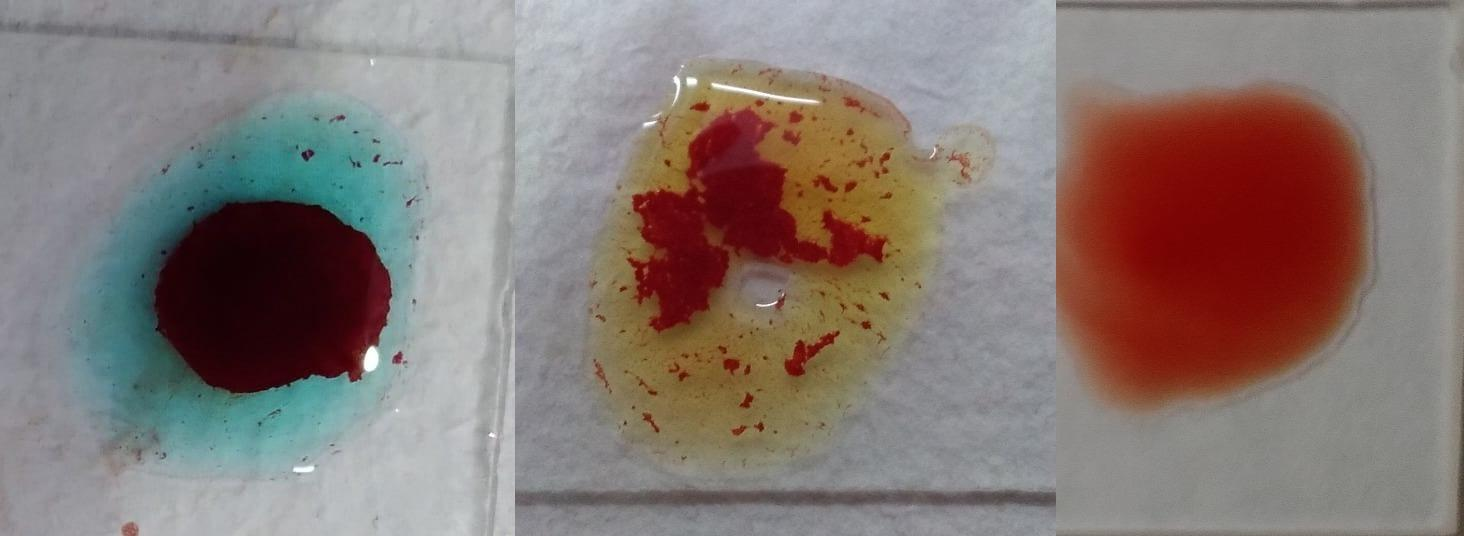A: (84, 101, 426, 481)
B: (583, 56, 936, 479)
